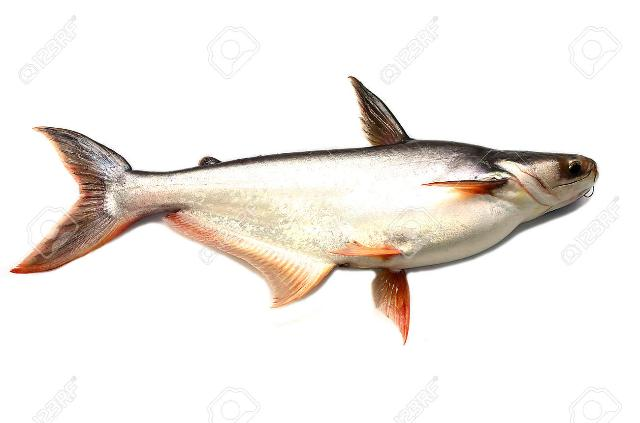Mulut: (556, 152, 614, 212)
Sirip Anal: (156, 199, 340, 313)
Sirip Dada: (418, 170, 509, 214)
Sirip Ekor: (6, 121, 136, 284)
Sirip Perut: (331, 233, 432, 350)
Sirip Punggung: (332, 59, 430, 158)
